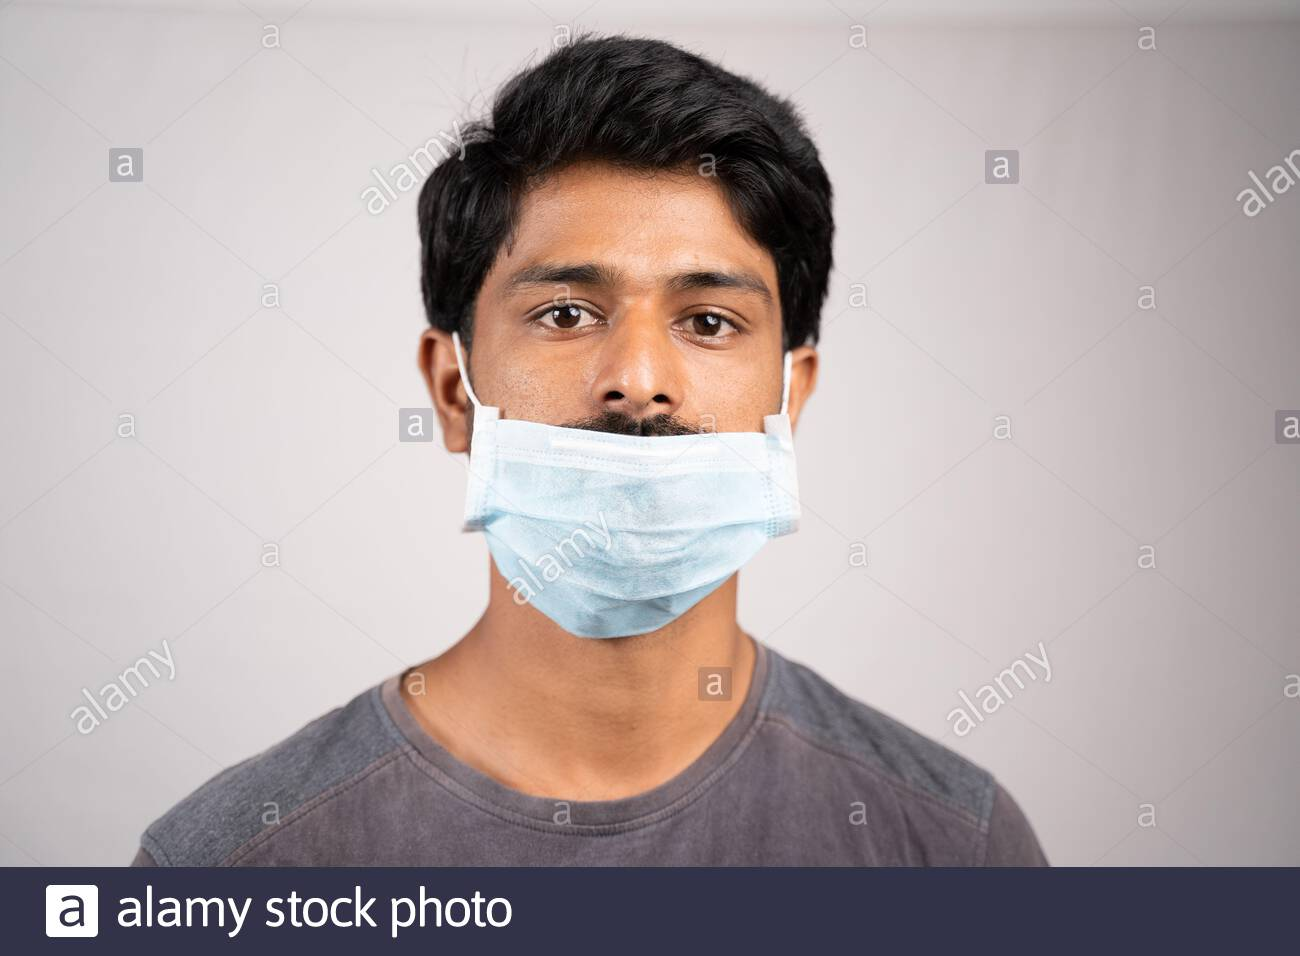with_incorrect_mask: (417, 37, 857, 654)
